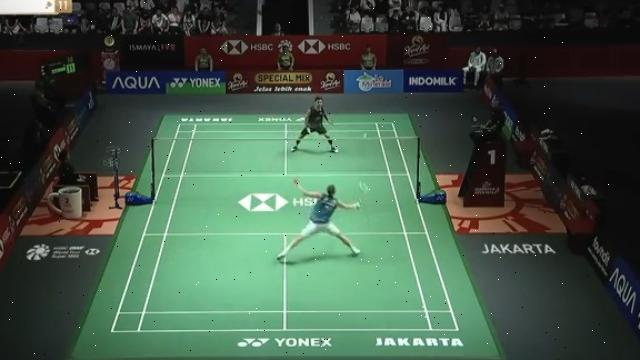Shuttlecock: (361, 129, 371, 139)
